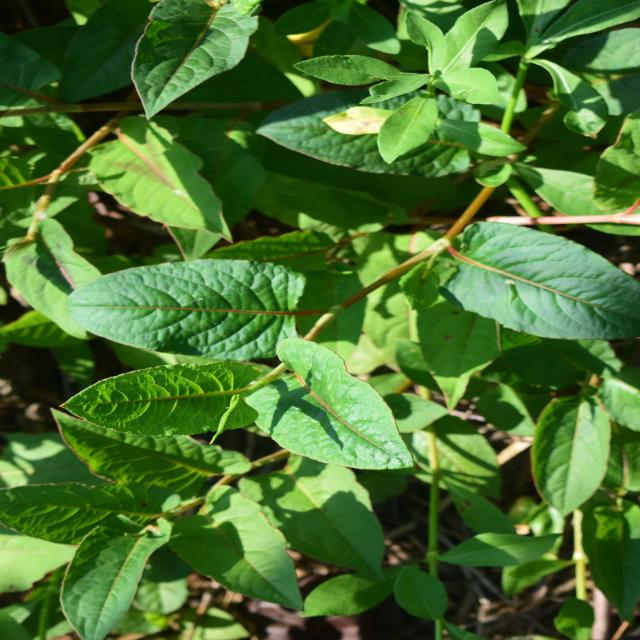Chinese_knotweed: (153, 48, 419, 585)
